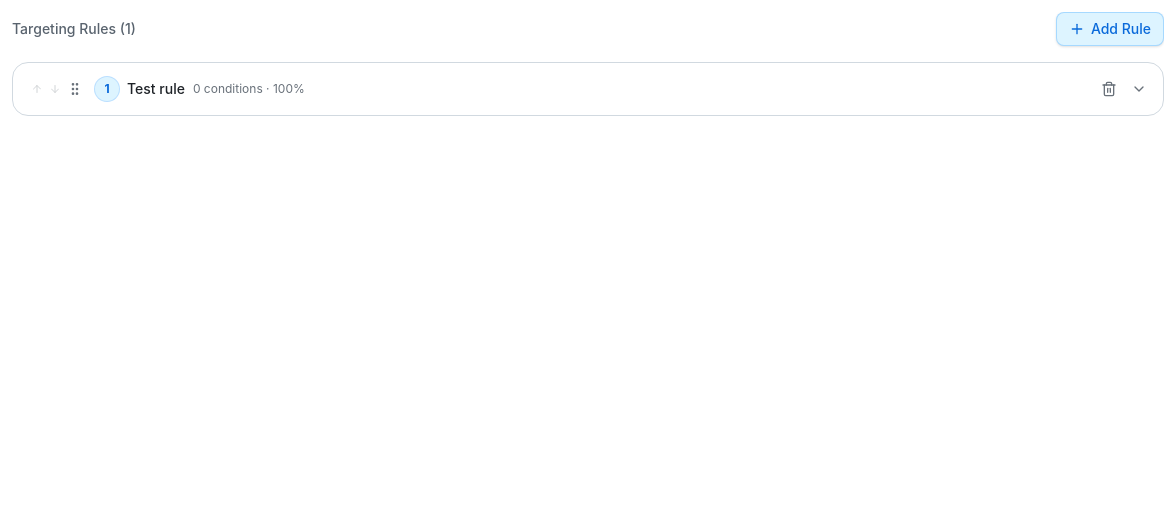
Test: VisualRuleBuilder › collapses rule on second click
Click the text "Test rule": [156, 89] box [127,79,185,99]
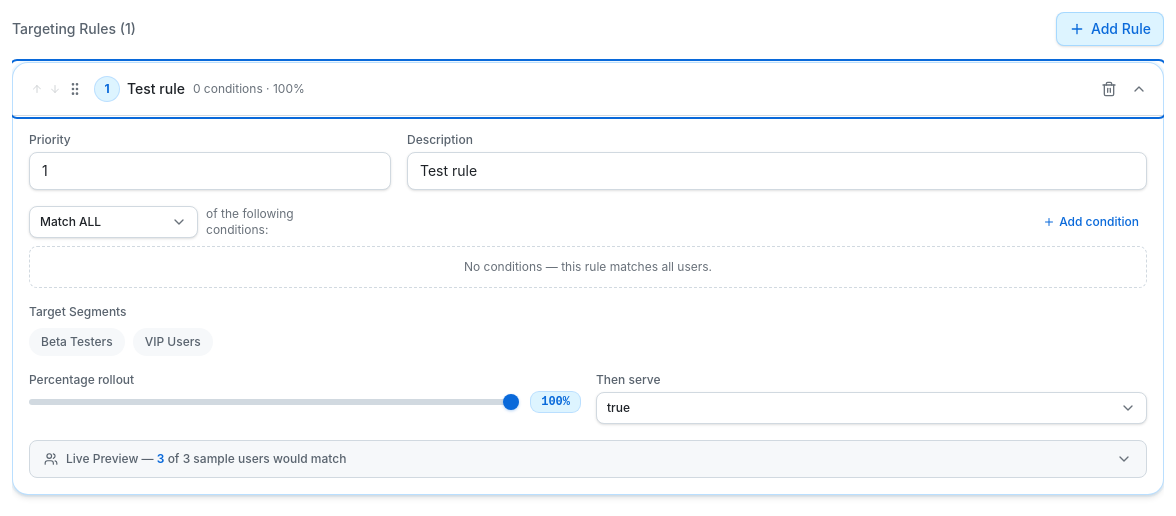
Now the text "Percentage rollout" is shown, box [29,372,134,387]
Click the text "Test rule": [156, 89] box [127,79,185,99]
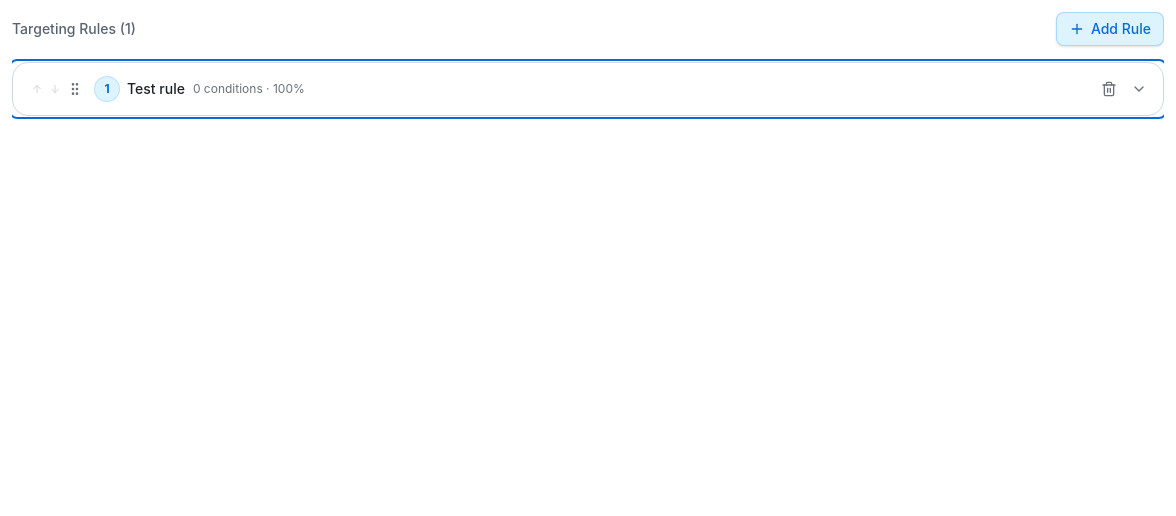
Now the text "Percentage rollout" is gone
